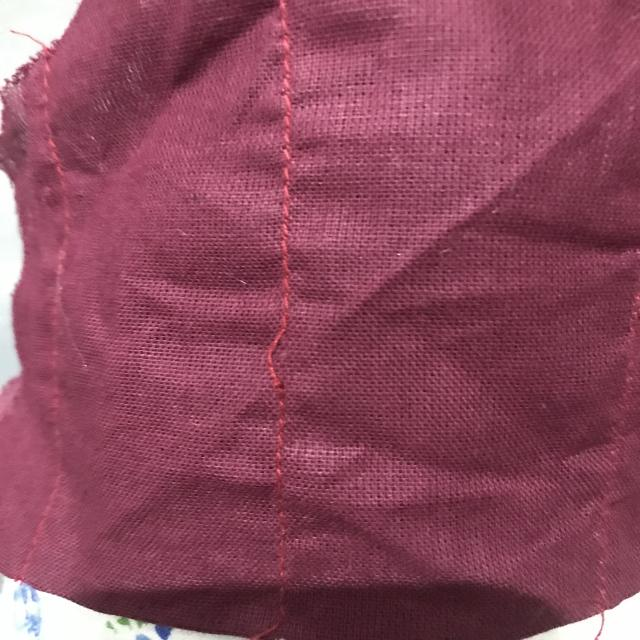good: (273, 148, 301, 269)
skip: (254, 307, 312, 397)
